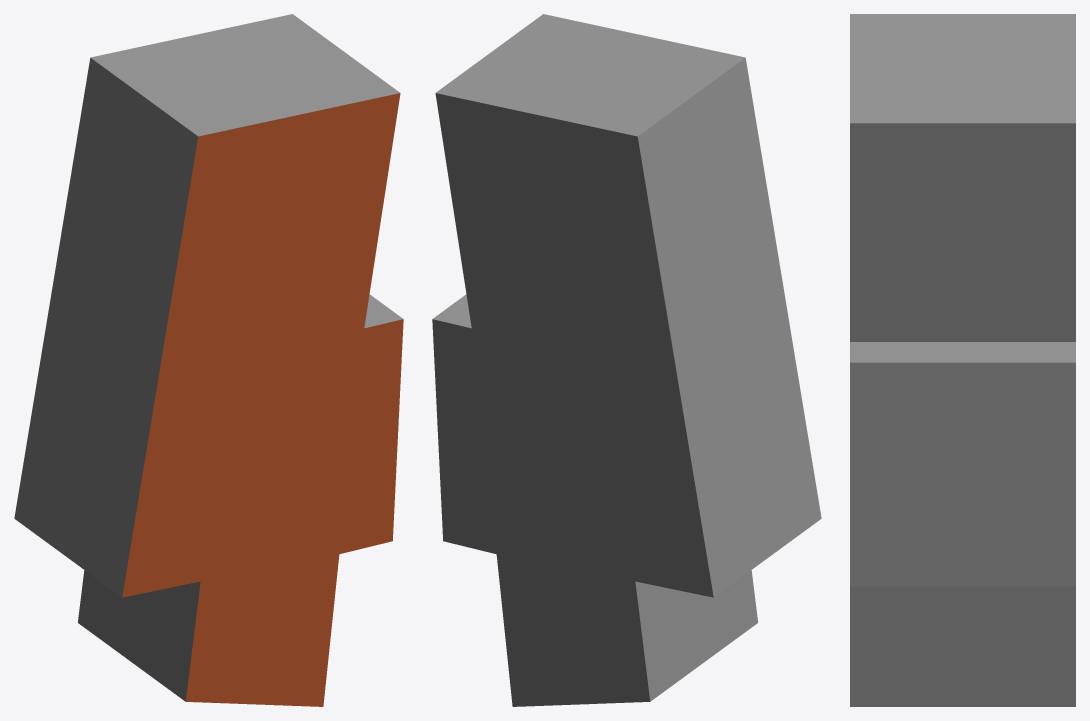
File: construction_3995_assumed_A_Casa_h6m.obj
3 views of the same model, side by side, from view 1: azimuth 30°, elevation 25°; view 2: azimuth 150°, elevation 25°; view 3: azimuth 270°, elevation 25° (orthographic). The views are drawn at different scales.
Parts seen in each view (by area): view 1: construction_3995_assumed_A_Casa; view 2: construction_3995_assumed_A_Casa; view 3: construction_3995_assumed_A_Casa.
Boxes of the visible parts, left/top/right/bottom form: construction_3995_assumed_A_Casa: left=14, top=14, right=403, bottom=706; construction_3995_assumed_A_Casa: left=432, top=14, right=821, bottom=706; construction_3995_assumed_A_Casa: left=850, top=14, right=1075, bottom=706.
Bounding box in the file's own units: 9.03 × 18.43 × 6.
